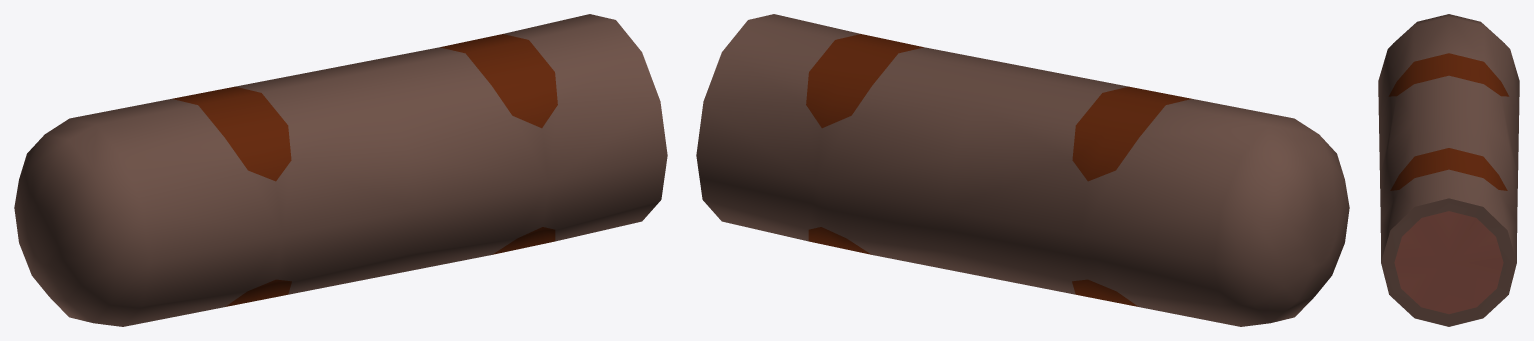
The model's file is Sausage_gril_half.006.fbx.
3 views of the same model, side by side, from view 1: azimuth 30°, elevation 25°; view 2: azimuth 150°, elevation 25°; view 3: azimuth 270°, elevation 25° (orthographic). The views are drawn at different scales.
Parts seen in each view (by area): view 1: Sausage_gril_half.006; view 2: Sausage_gril_half.006; view 3: Sausage_gril_half.006.
Part boxes in pixels (x1,y1,x2,y2): Sausage_gril_half.006: (14,14,667,326); Sausage_gril_half.006: (696,14,1349,326); Sausage_gril_half.006: (1378,14,1519,326).
Size of the model in its own units: 79.77 by 25.88 by 28.84.
